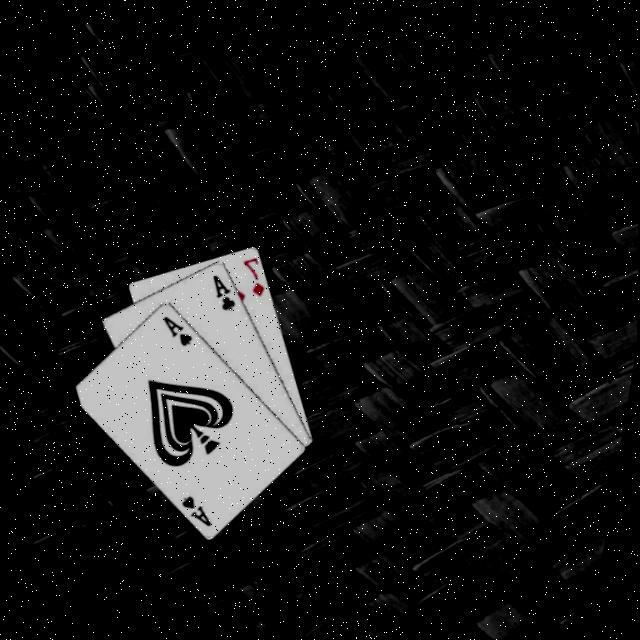7D: (235, 251, 272, 297)
AC: (205, 269, 243, 313)
AS: (156, 310, 198, 348), (176, 489, 218, 527)
